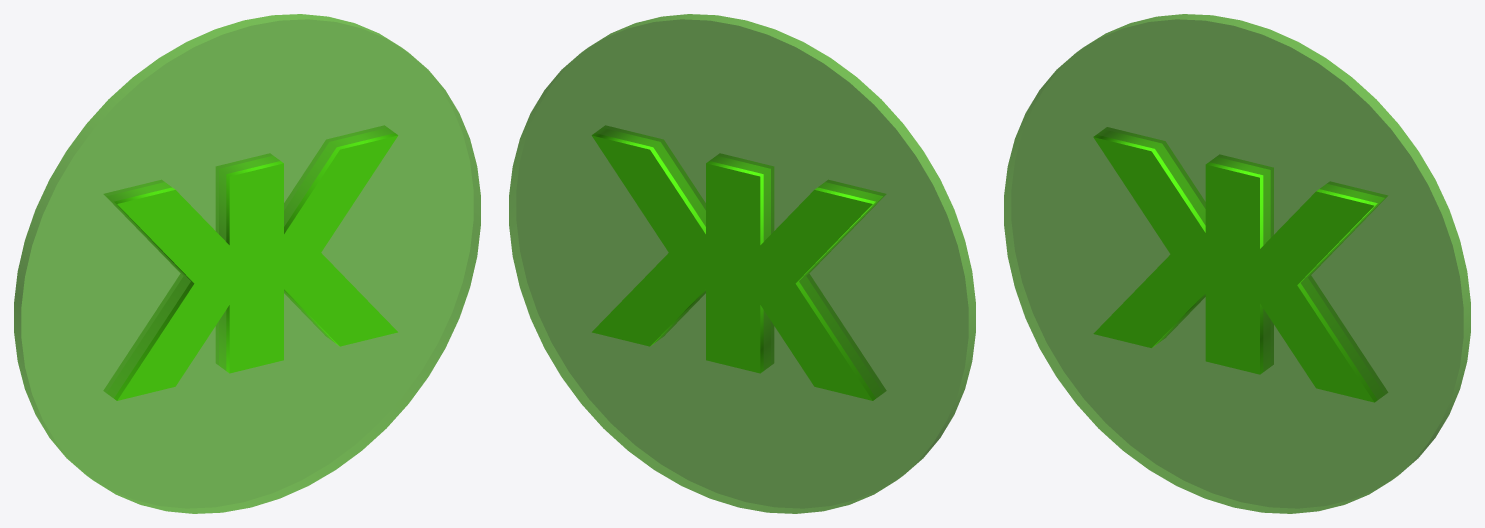
Rendered from moneda.glb.
3 renders of one model, left to right at view 1: azimuth 30°, elevation 25°; view 2: azimuth 150°, elevation 25°; view 3: azimuth 330°, elevation 25°, orthographic.
Visible parts, largest first — view 1: Cylinder002, moneda; view 2: Cylinder002, moneda; view 3: Cylinder002, moneda.
Part boxes in pixels (x1,y1,x2,y2): Cylinder002: [14, 14, 480, 513]; moneda: [104, 126, 398, 400]; Cylinder002: [509, 14, 975, 513]; moneda: [591, 126, 885, 400]; Cylinder002: [1004, 14, 1470, 513]; moneda: [1093, 127, 1387, 402].
Size of the model in its own units: 0.9997 by 1 by 0.0523.
